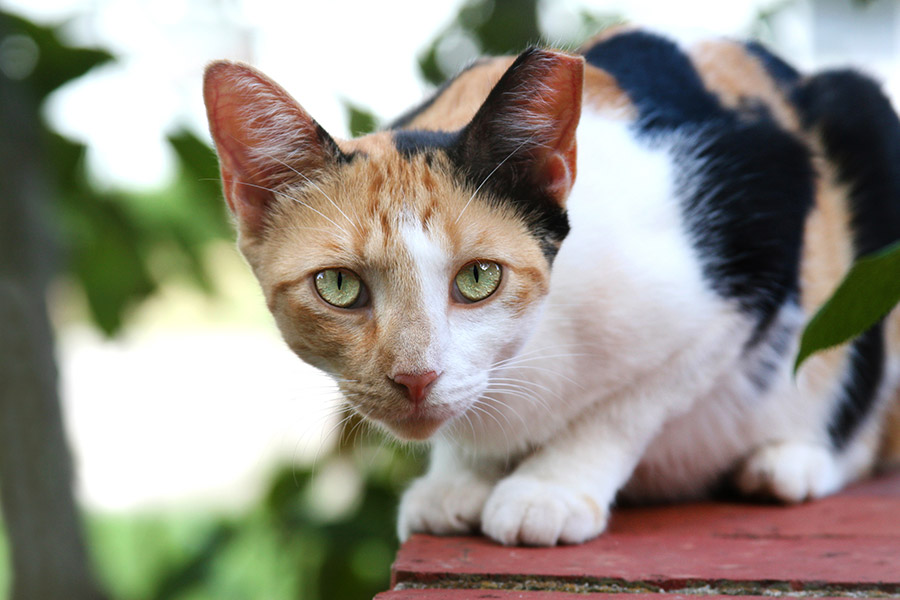Cat: (200, 27, 900, 545)
